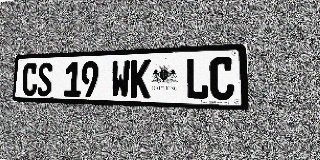1: (64, 62, 81, 97)
9: (81, 61, 99, 97)
C: (210, 57, 234, 100), (22, 63, 38, 96)
K: (130, 59, 151, 98)
L: (185, 57, 209, 100)
S: (37, 62, 53, 96)
W: (111, 60, 130, 98)
